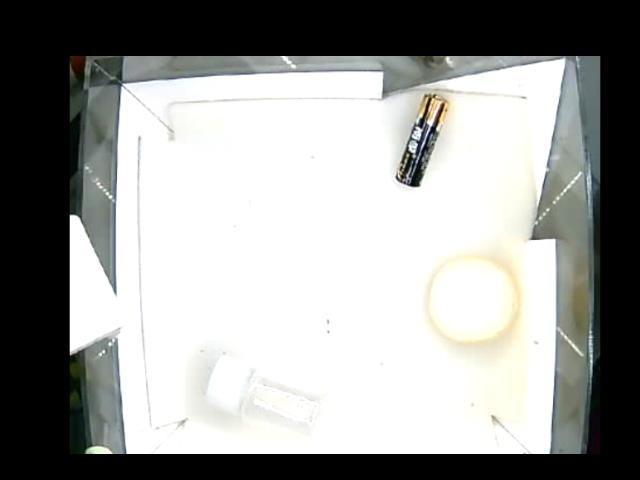Battery: (393, 94, 445, 188)
Bottle: (202, 351, 327, 435)
Mooli: (430, 255, 514, 342)
